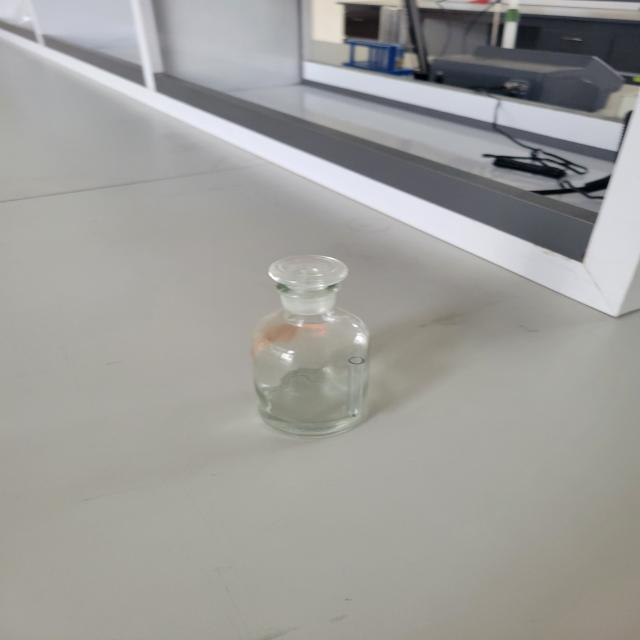Reagent_Bottle: (191, 218, 406, 461)
